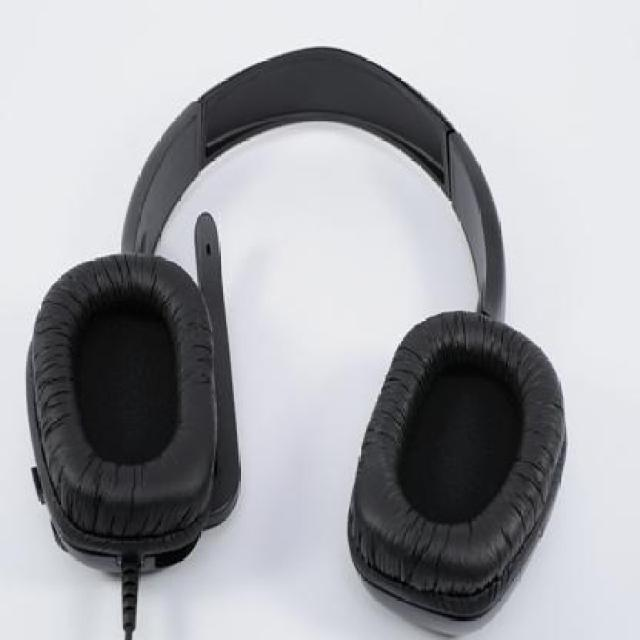earphone: (41, 37, 562, 595)
